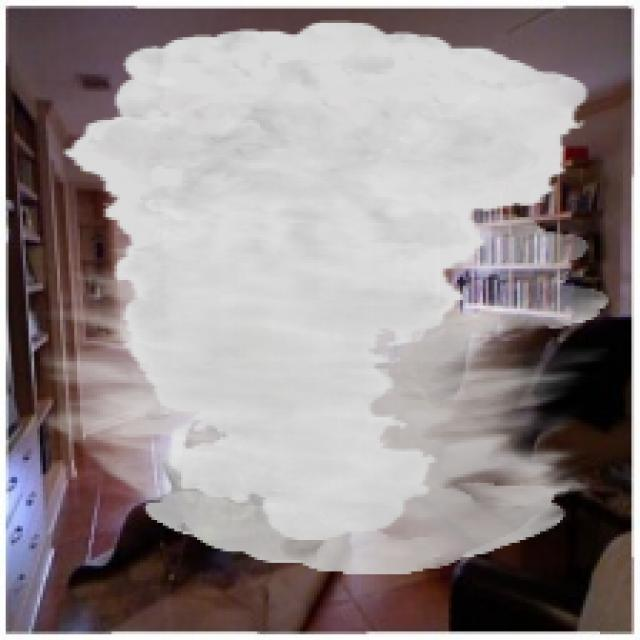Smoke: (40, 19, 609, 574)
